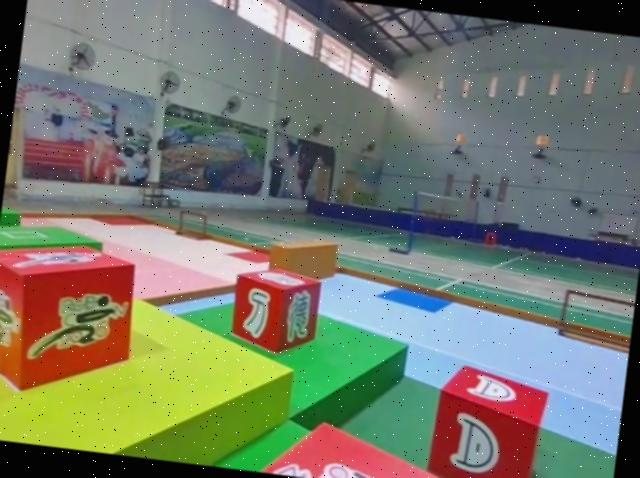R1: (0, 231, 144, 404), (219, 403, 492, 478)
R2 Fake: (225, 262, 323, 359)
R2 Real: (422, 356, 554, 478)
